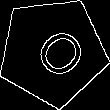O_SW: (20, 18, 86, 85)
